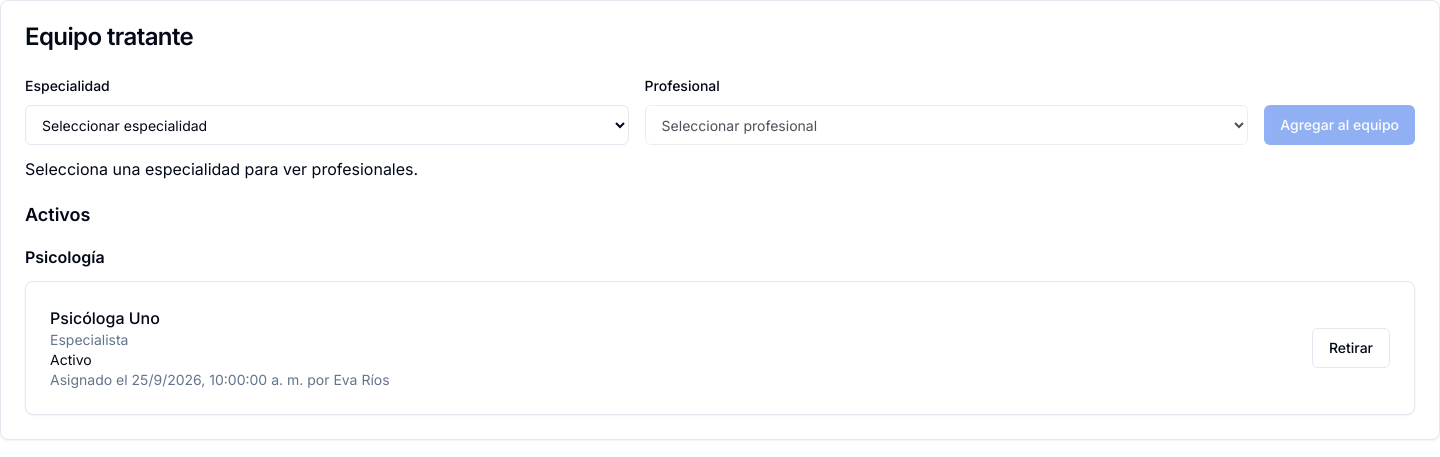
Test case: PatientTeamTab › disables candidate controls while an assignment is pending
The width and height of the screenshot is (1440, 457).
Select "Nutrición" in the dropdown labelled "Especialidad" at x=327, y=125, box [25,105,629,145]
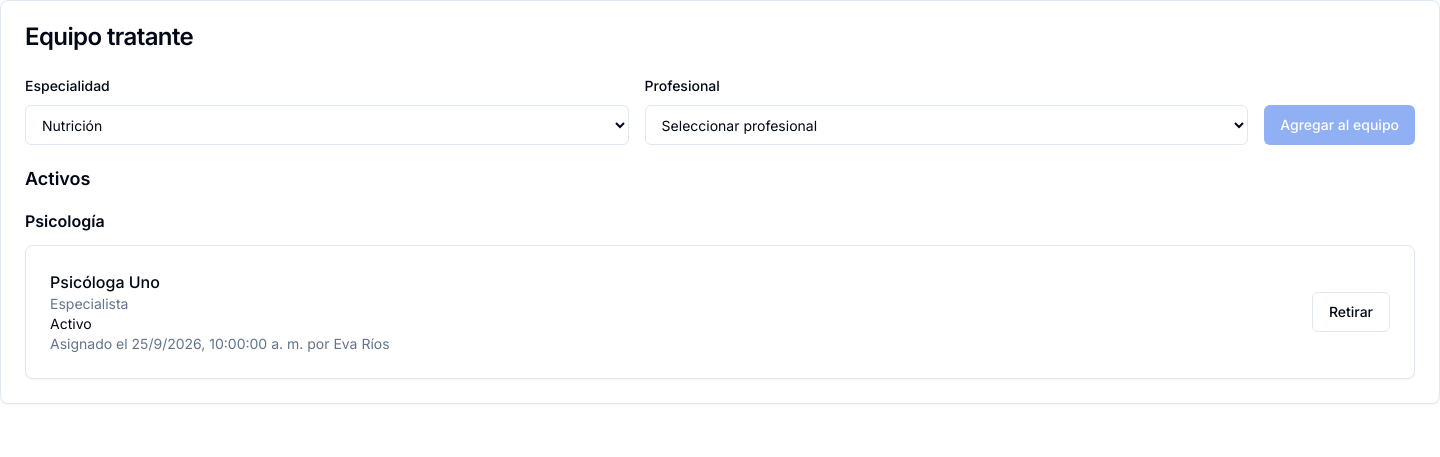
Select "Nutricionista Uno" in the dropdown labelled "Profesional" at x=946, y=125, box [645,105,1248,145]
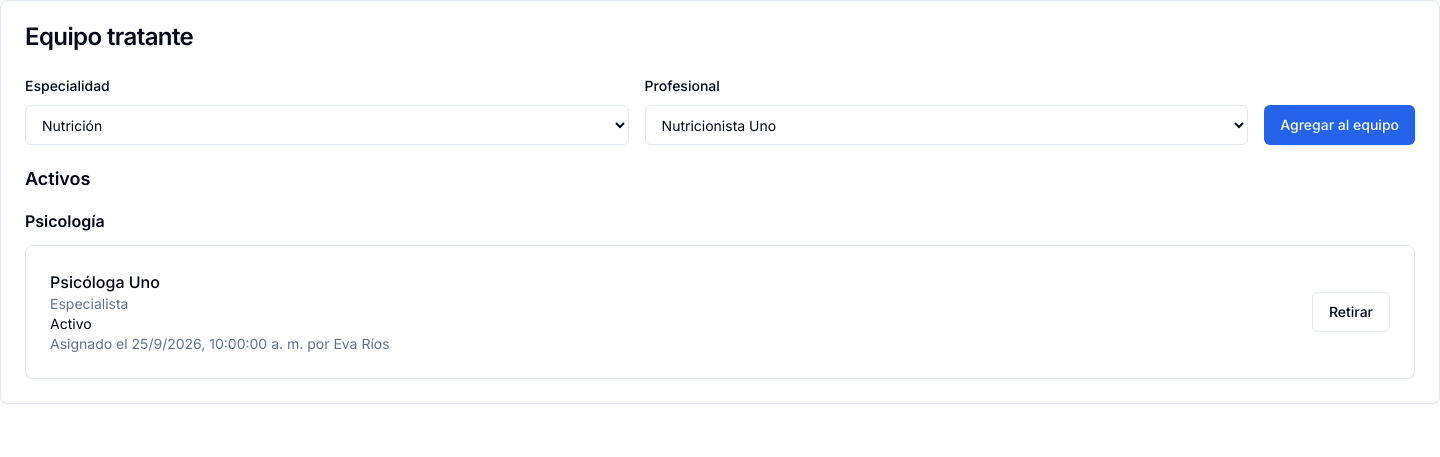
Click the button "Agregar al equipo" at x=1340, y=125, box [1264,105,1415,145]
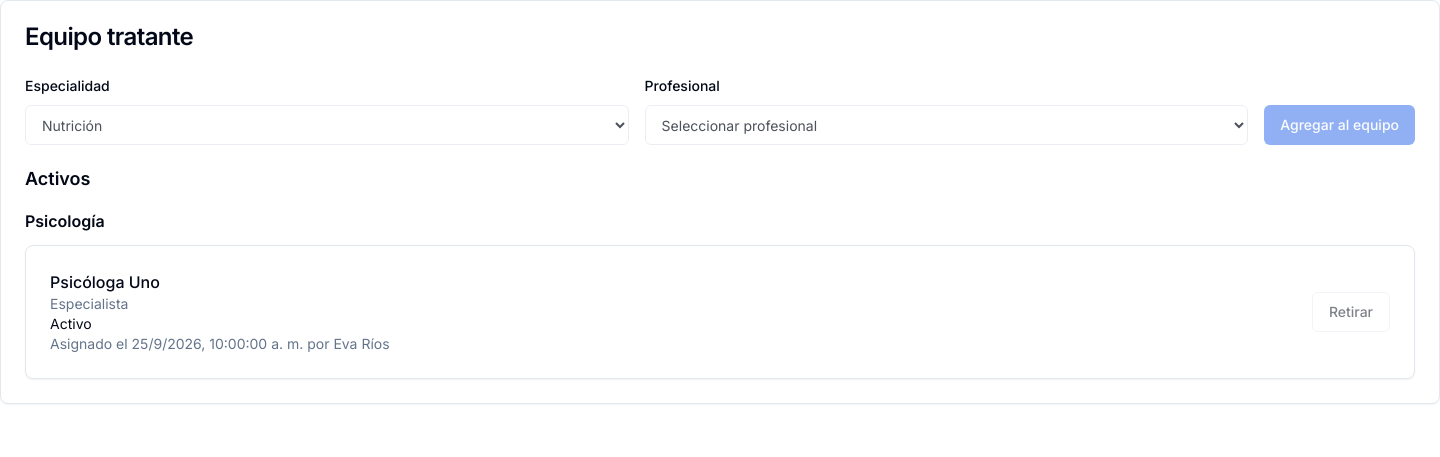
Now the dropdown labelled "Especialidad" is disabled, box [25,105,629,145]
Now the dropdown labelled "Profesional" is disabled, box [645,105,1248,145]
Now the button "Agregar al equipo" is disabled, box [1264,105,1415,145]
